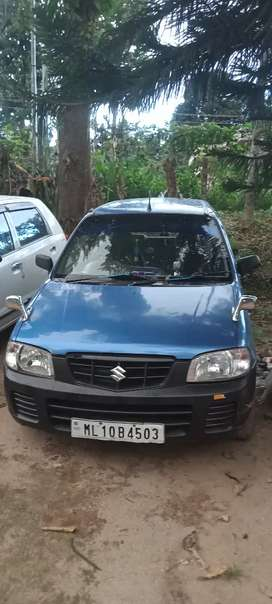ML10B4503: (69, 417, 163, 444)
